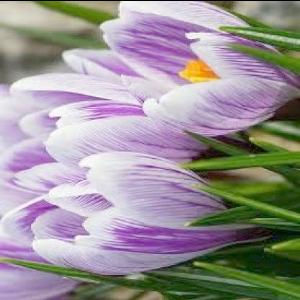Saffron: (29, 157, 296, 272), (15, 68, 244, 188), (97, 0, 300, 118)
